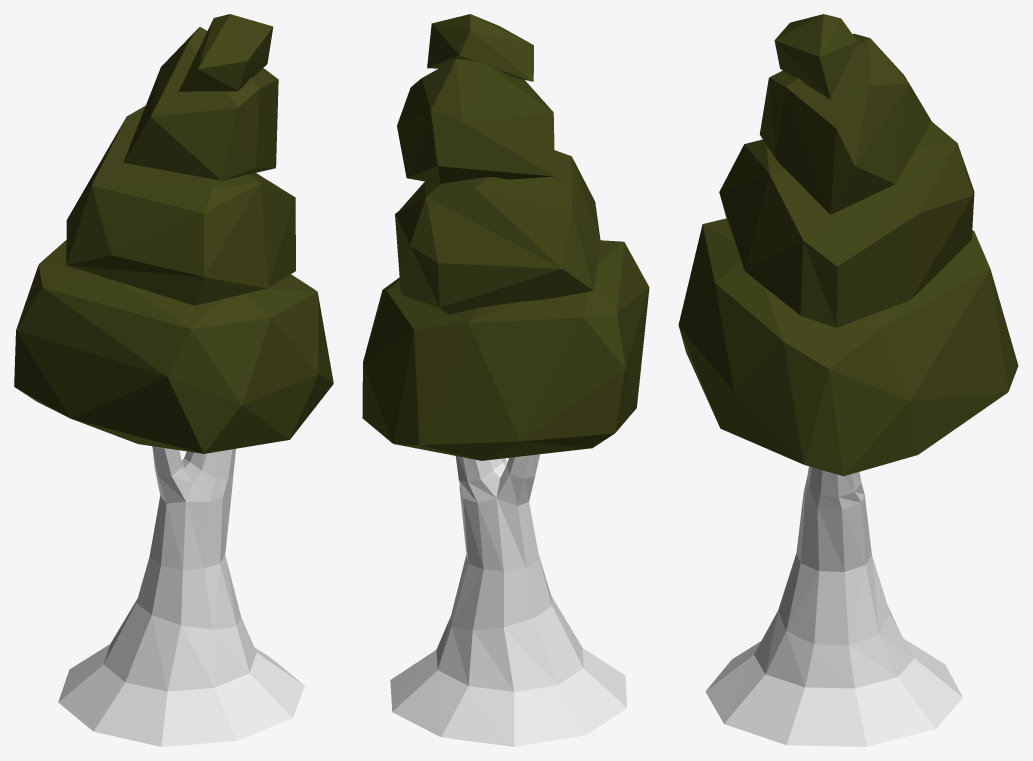
The model's file is tree_solid_07a.fbx.
The picture shows the model from 3 angles, left to right: view 1: azimuth 30°, elevation 25°; view 2: azimuth 150°, elevation 25°; view 3: azimuth 270°, elevation 25°; orthographic projection. The views are drawn at different scales.
Visible parts, largest first — view 1: tree_solid_07; view 2: tree_solid_07; view 3: tree_solid_07.
Part boxes in pixels (x1,y1,x2,y2): tree_solid_07: [14, 14, 333, 746]; tree_solid_07: [362, 14, 649, 746]; tree_solid_07: [678, 14, 1018, 746].
Bounding box in the file's own units: 3.73 × 8.53 × 3.74.
